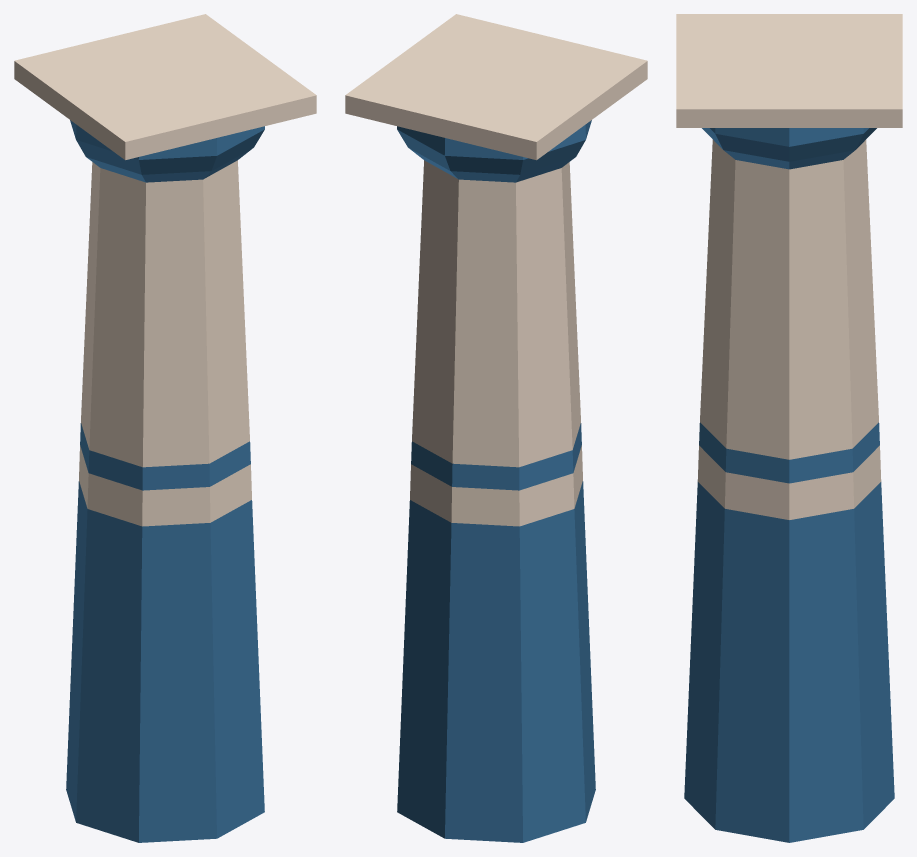
Rendered from empire-pillar-doric-small-color-empire.glb.
3 views of the same model, side by side, from view 1: azimuth 30°, elevation 25°; view 2: azimuth 150°, elevation 25°; view 3: azimuth 270°, elevation 25° (orthographic).
Visible parts, largest first — view 1: SM_Pillar_Doric_Small_Color_Empire; view 2: SM_Pillar_Doric_Small_Color_Empire; view 3: SM_Pillar_Doric_Small_Color_Empire.
Part boxes in pixels (x1,y1,x2,y2): SM_Pillar_Doric_Small_Color_Empire: [14, 14, 316, 842]; SM_Pillar_Doric_Small_Color_Empire: [345, 14, 647, 842]; SM_Pillar_Doric_Small_Color_Empire: [676, 14, 902, 842].
Bounding box in the file's own units: 0.8316 × 3 × 0.8355.
